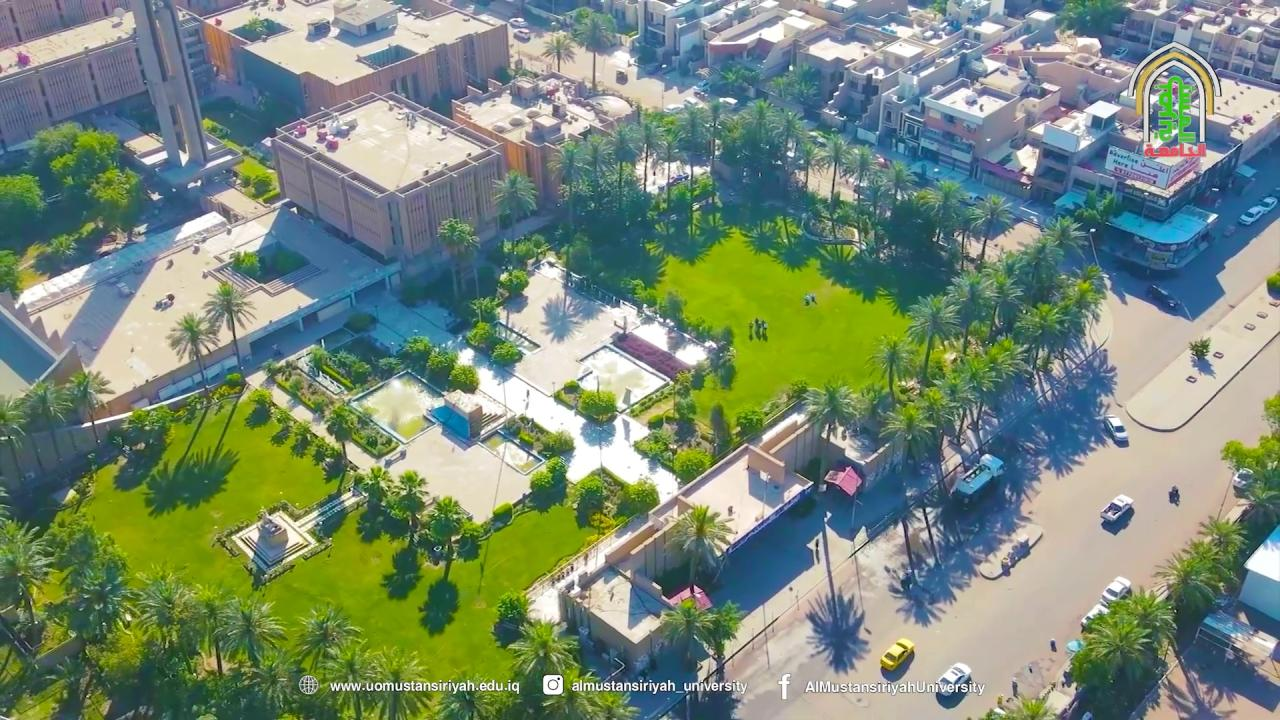car: (1080, 576, 1133, 633), (951, 453, 1005, 507), (1238, 194, 1278, 225), (880, 638, 915, 672), (936, 663, 971, 696), (1100, 494, 1133, 524), (1148, 282, 1181, 308), (1102, 415, 1128, 444), (1232, 467, 1255, 496), (1239, 205, 1263, 225), (508, 17, 529, 34), (692, 79, 711, 97), (959, 193, 983, 207), (668, 173, 689, 186), (718, 97, 738, 106)
fountain: (571, 344, 663, 412), (353, 374, 438, 441)
person: (1169, 485, 1179, 505), (1060, 669, 1068, 688), (1011, 677, 1018, 698)
tree: (0, 120, 143, 299), (435, 616, 640, 719), (1068, 586, 1178, 688), (941, 337, 1023, 451), (1219, 391, 1279, 520), (0, 516, 55, 650), (663, 502, 736, 599), (1151, 536, 1236, 611), (545, 138, 590, 274), (62, 558, 134, 643), (129, 558, 197, 646), (289, 599, 364, 676), (904, 292, 962, 388), (48, 127, 120, 201), (202, 280, 257, 373), (365, 643, 432, 719), (219, 595, 287, 668), (186, 582, 238, 677), (506, 616, 582, 681), (16, 377, 73, 463), (489, 168, 538, 266), (165, 310, 221, 395), (419, 494, 473, 581), (321, 642, 379, 718), (878, 401, 938, 473), (1013, 301, 1065, 384), (944, 270, 995, 352), (814, 133, 854, 237), (696, 598, 744, 684), (658, 598, 714, 670), (965, 192, 1016, 271), (84, 166, 140, 236), (864, 331, 917, 404), (63, 368, 113, 444), (570, 11, 617, 90), (0, 172, 45, 254), (918, 177, 968, 247), (802, 377, 857, 440), (602, 122, 640, 212), (770, 61, 821, 119), (982, 272, 1024, 342), (577, 132, 613, 212), (383, 468, 428, 532), (0, 392, 30, 485), (580, 420, 618, 489), (417, 577, 460, 637), (1195, 512, 1248, 560), (1054, 0, 1122, 37), (1039, 212, 1087, 264), (656, 118, 684, 206), (539, 290, 585, 343), (488, 340, 522, 411), (323, 401, 359, 466), (528, 455, 569, 512), (631, 120, 663, 193), (122, 405, 175, 449), (570, 474, 606, 532), (983, 690, 1057, 718), (435, 216, 480, 262), (616, 476, 659, 520), (327, 347, 368, 389), (701, 97, 726, 163), (672, 448, 714, 486), (575, 388, 618, 425), (494, 589, 531, 631), (539, 30, 575, 73), (666, 368, 694, 418), (425, 345, 458, 387), (884, 158, 915, 201), (708, 402, 731, 456), (718, 63, 755, 95), (495, 266, 528, 298), (538, 427, 575, 455), (447, 363, 479, 394), (228, 248, 260, 279), (470, 295, 500, 325), (489, 340, 522, 367), (465, 320, 494, 348), (306, 345, 330, 377), (373, 355, 403, 380), (1188, 334, 1212, 360), (404, 334, 432, 355), (1266, 270, 1280, 297)
